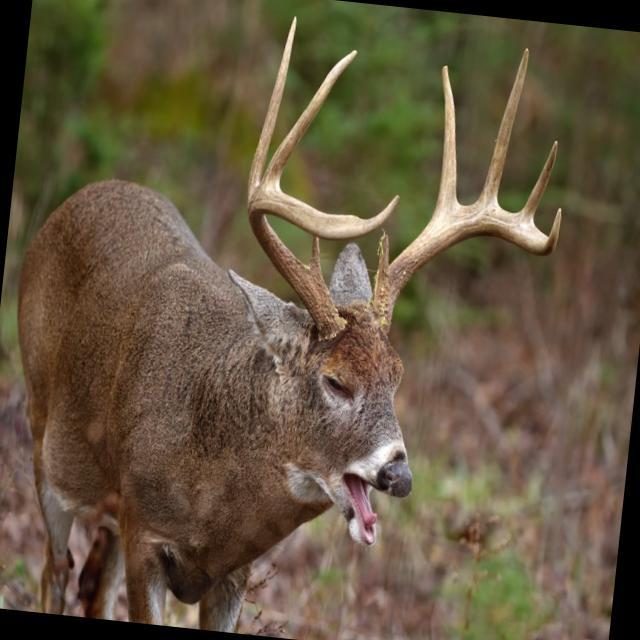L-F: (371, 204, 561, 334)
L-G1: (376, 233, 389, 279)
L-G2: (435, 64, 458, 210)
L-G3: (478, 47, 529, 203)
L-G4: (520, 139, 558, 219)
R-F: (247, 185, 399, 341)
R-G1: (307, 237, 322, 279)
R-G2: (246, 15, 297, 214)
R-G3: (260, 49, 358, 190)
